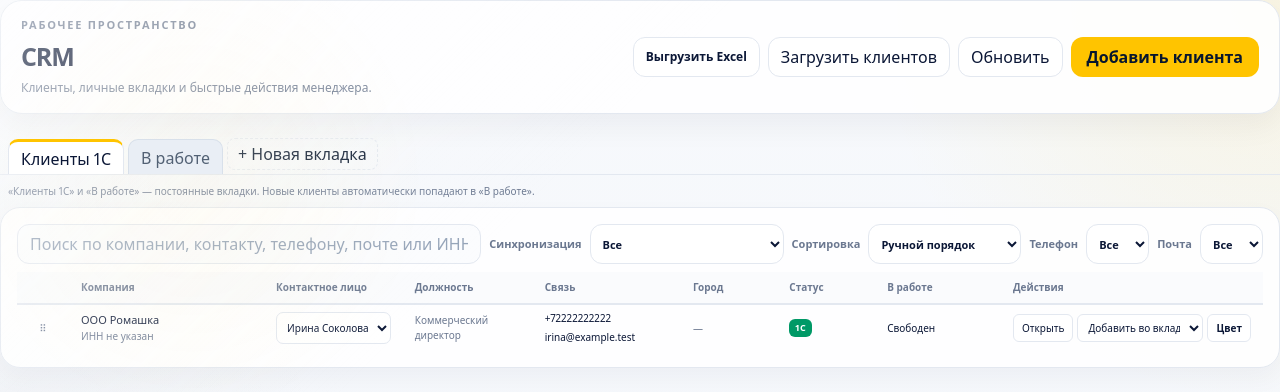
Test case: desktop CRM list controls › shows a position column and temporarily switches the selected contact details
Expected: the column heading "Должность" is shown, [403,272,533,304]
Expected: the text "Коммерческий директор" is shown, [415,313,488,342]
Select "Анна Петрова — Менеджер по закупкам" in the dropdown named "Контактное лицо ООО Ромашка": (333, 328) [276,312,391,344]
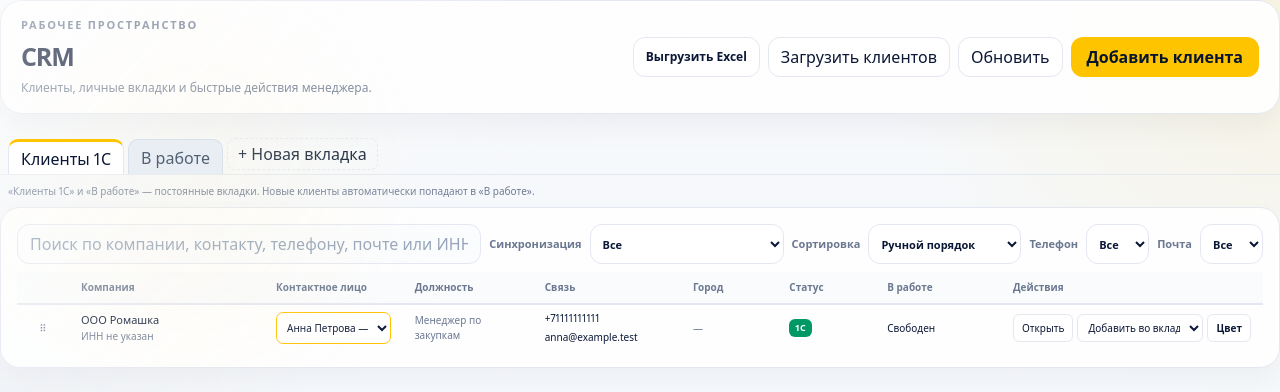
Expected: the text "Менеджер по закупкам" is shown, [415,313,481,342]
